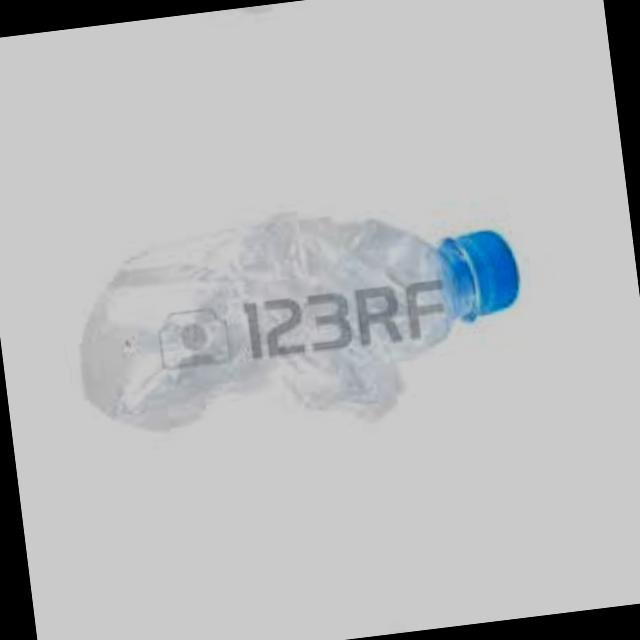Plastic: (32, 150, 552, 478), (11, 0, 502, 74), (86, 590, 575, 640)
